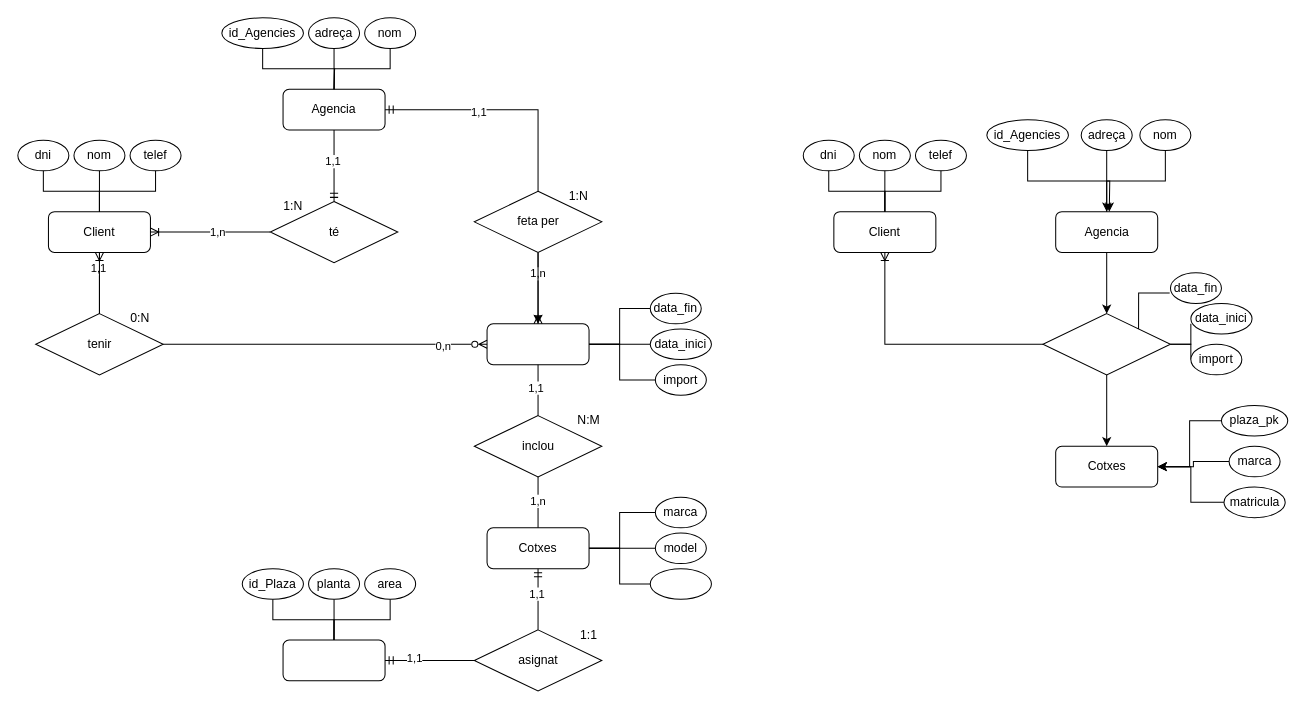
The diagram is 1306 pixels wide and 709 high, and some of its shapes have lost their labels. The centre of each missing label's shape, as x and y in pixels:
"id_Cotxe" belongs at pixel 680 583.
"Plaza Parking" belongs at pixel 333 660.
"reserva" belongs at pixel 1106 344.
"reserves" belongs at pixel 537 344.
